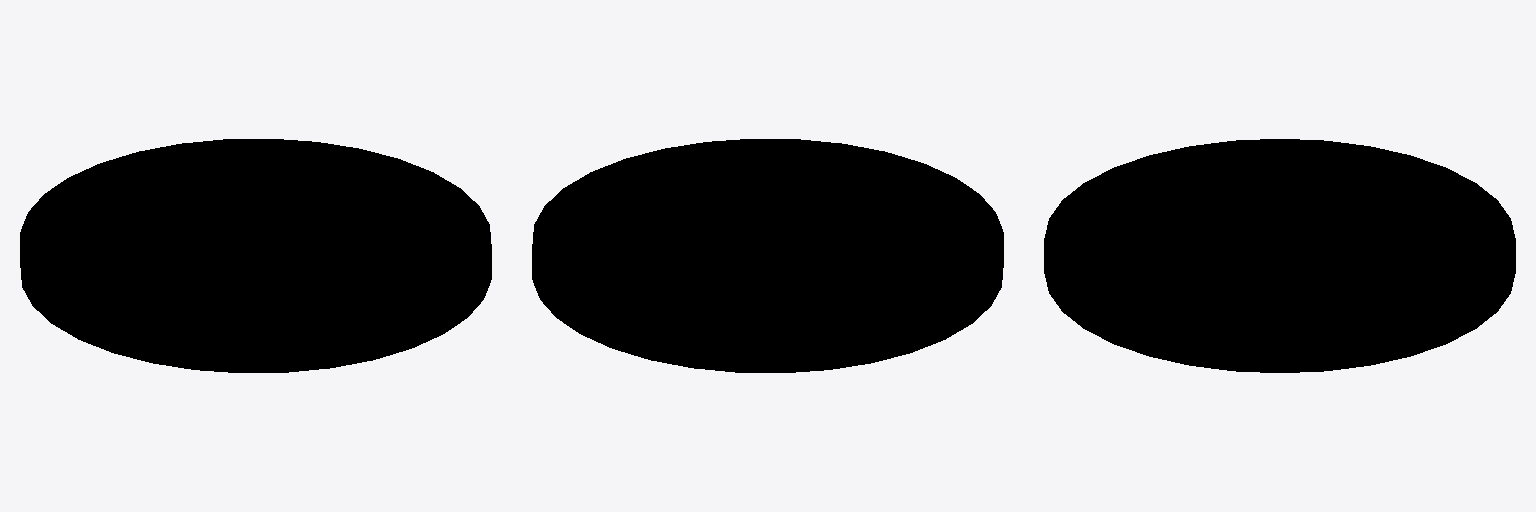
robot.urdf — rjje_arm:
<?xml version="1.0"?>
<robot name="rjje_arm">
  <material name="blue">
    <color rgba="0 0 0.8 1"/>
  </material>
  <material name="black">
    <color rgba="0 0 0 0.6"/>
  </material>

  <link name="world">
  </link>

  <link name="base_link">
    <visual>
      <geometry>
        <cylinder radius="0.3" length="0.05"/>
      </geometry>
        <material name="black"/>
        <origin xyz="0.0 0.0 0.025" rpy="0.0 0.0 0.0"/>
    </visual>

    <collision>
      <geometry>
        <cylinder radius="0.3" length="0.05"/>
      </geometry>
      <origin xyz="0.0 0.0 0.025" rpy="0.0 0.0 0.0"/>
    </collision>

    <inertial>
      <mass value="1"/>
      <origin xyz="0.0 0.0 0.0"/>
      <inertia ixx="0.27" izz="0.005" iyy="0.0027" ixy="0.0" ixz="0.0" iyz="0.0"/>
    </inertial>
  </link>

  <joint name="world" type="fixed">
    <parent link="world"/>
    <child link="base_link"/>
  </joint>

</robot>

--- What the picture shows (computed from the rendered views, not written in the file) ---
Views: 3 orthographic renders of the robot side by side, from view 1: azimuth 30°, elevation 25°; view 2: azimuth 150°, elevation 25°; view 3: azimuth 270°, elevation 25°.
Robot: rjje_arm — 2 links, 1 joints (1 fixed); root link world; default pose: every joint at zero.
Links seen in each view (by area): view 1: base_link; view 2: base_link; view 3: base_link.
Link boxes in pixels (x1=…): base_link: x1=20, y1=139, x2=491, y2=372; base_link: x1=532, y1=139, x2=1003, y2=372; base_link: x1=1044, y1=139, x2=1515, y2=372.
Bounding box of the posed robot: 0.6 × 0.6 × 0.05 m (x, y, z).
Geometry: primitives only (box / cylinder / sphere), no mesh files.
